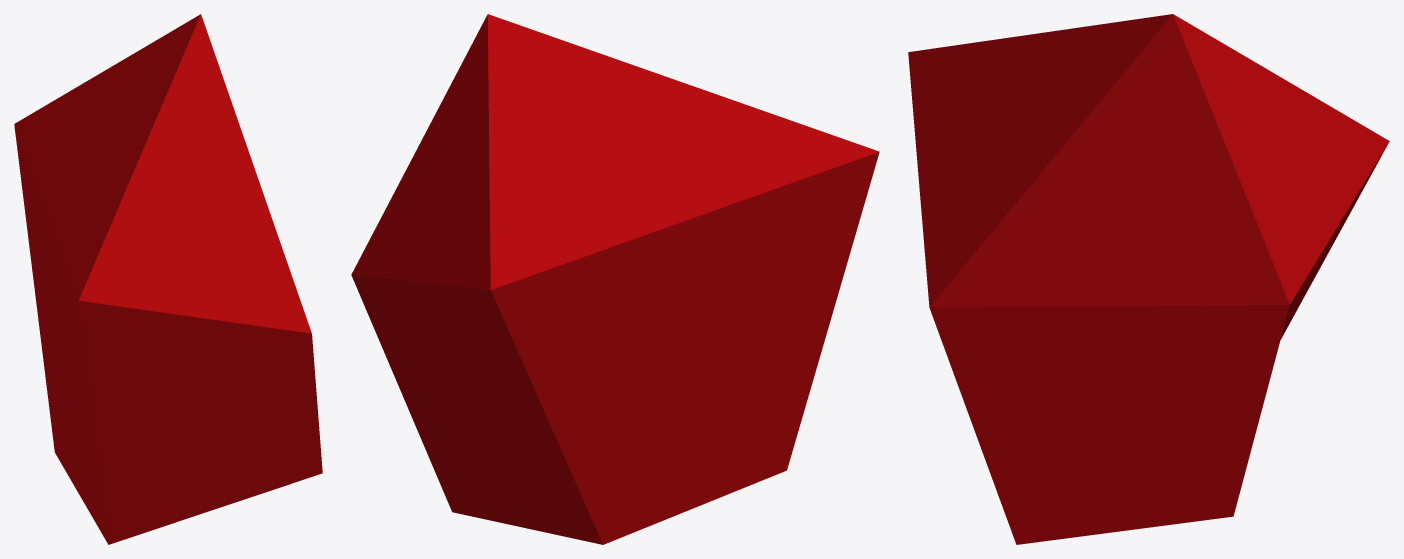
Rendered from Gem.fbx.
The picture shows the model from 3 angles, left to right: view 1: azimuth 30°, elevation 25°; view 2: azimuth 150°, elevation 25°; view 3: azimuth 270°, elevation 25°; orthographic projection. The views are drawn at different scales.
Visible parts, largest first — view 1: Cube; view 2: Cube; view 3: Cube.
Boxes of the visible parts, <box> form: Cube: <box>14,14,322,544</box>; Cube: <box>351,14,879,544</box>; Cube: <box>908,14,1389,544</box>.
Bounding box in the file's own units: 0.7648 × 1.01 × 0.885.
